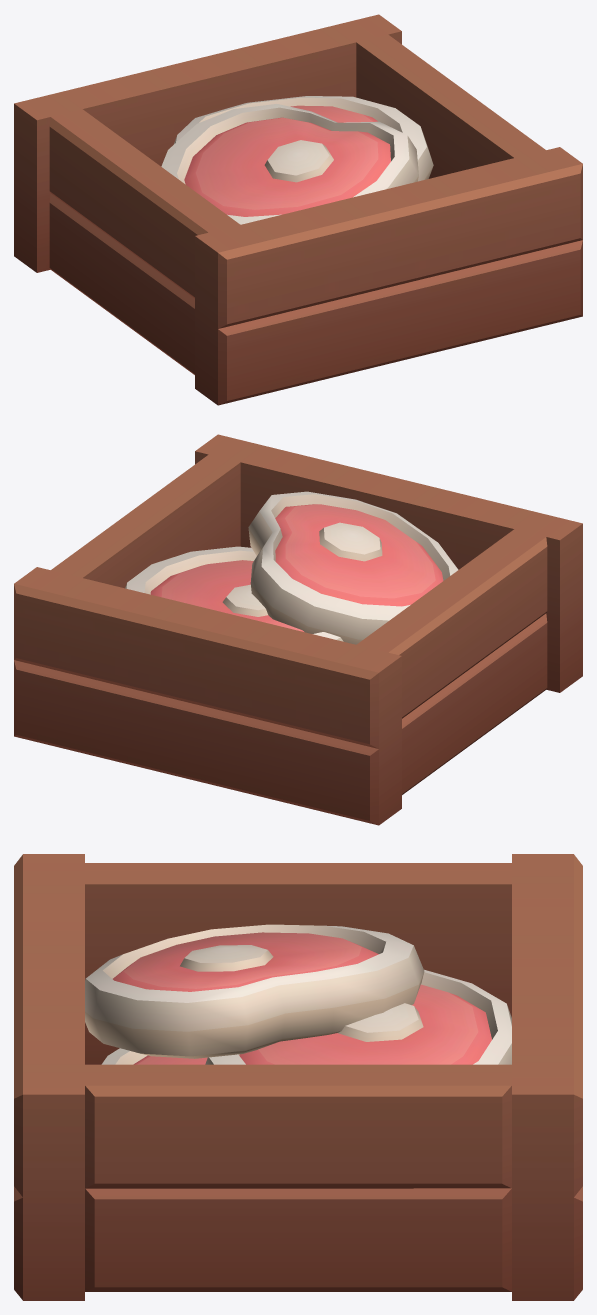
File: crate-steak.glb
3 renders of one model, top to bottom at view 1: azimuth 30°, elevation 25°; view 2: azimuth 150°, elevation 25°; view 3: azimuth 270°, elevation 25°, orthographic. The views are drawn at different scales.
Parts seen in each view (by area): view 1: crate_steak; view 2: crate_steak; view 3: crate_steak.
Part boxes in pixels (x1,y1,x2,y2): crate_steak: (14,14,582,405); crate_steak: (14,434,582,825); crate_steak: (14,854,582,1300).
Bounding box in the file's own units: 2 × 0.8768 × 2.
Materials: 1 (1 with a texture image).
